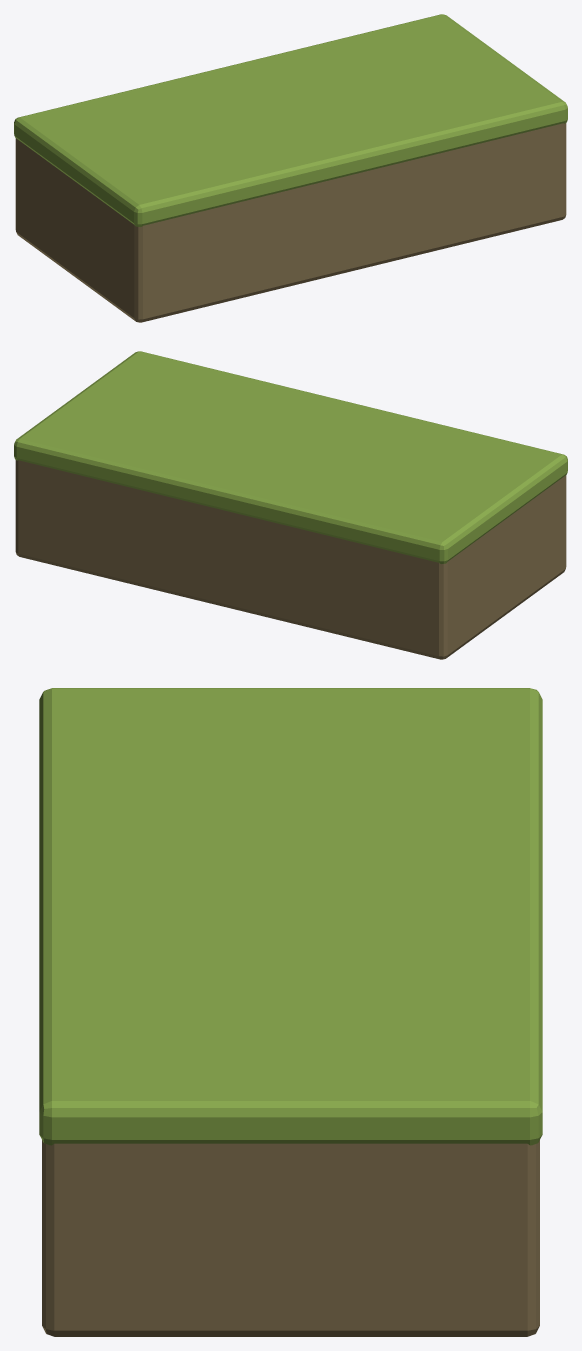
The model's file is SM_Platform_2m_03_A.fbx.
3 views of the same model, one above another, from view 1: azimuth 30°, elevation 25°; view 2: azimuth 150°, elevation 25°; view 3: azimuth 270°, elevation 25° (orthographic). The views are drawn at different scales.
Parts seen in each view (by area): view 1: polySurface93; view 2: polySurface93; view 3: polySurface93.
Part boxes in pixels (x1,y1,x2,y2): polySurface93: (14, 14, 567, 322); polySurface93: (14, 351, 567, 659); polySurface93: (39, 688, 542, 1336).
Size of the model in its own units: 402 by 105 by 202.
